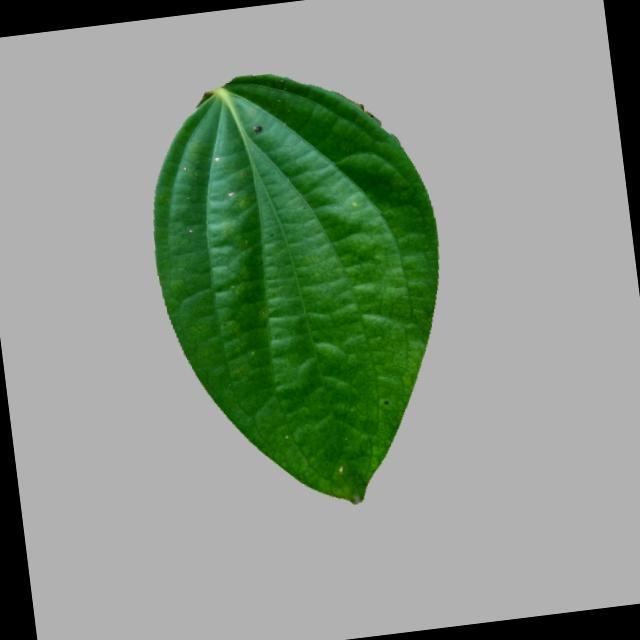healthy: (126, 48, 470, 530)
